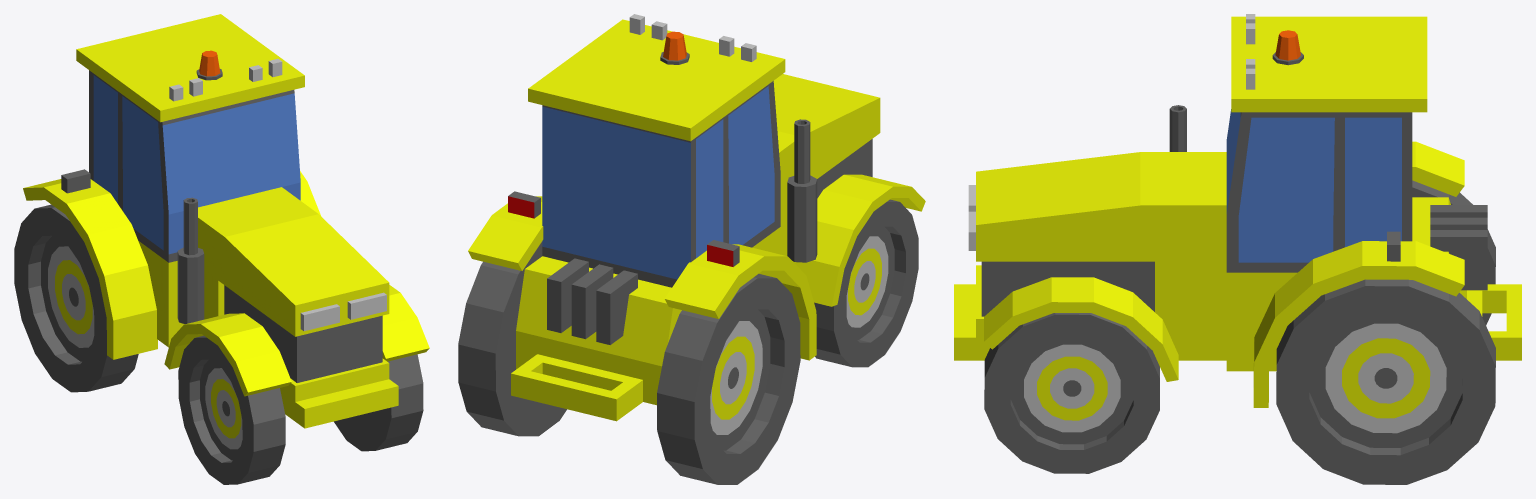
Rendered from tractor.gltf.
3 views of the same model, side by side, from view 1: azimuth 30°, elevation 25°; view 2: azimuth 150°, elevation 25°; view 3: azimuth 270°, elevation 25° (orthographic). The views are drawn at different scales.
Visible parts, largest first — view 1: Tractor01; view 2: Tractor01; view 3: Tractor01.
Part boxes in pixels (bbox=[...]): Tractor01: bbox=[14, 14, 429, 484]; Tractor01: bbox=[458, 14, 925, 484]; Tractor01: bbox=[954, 14, 1521, 484].
Bounding box in the file's own units: 0.6043 × 0.8859 × 1.16.
